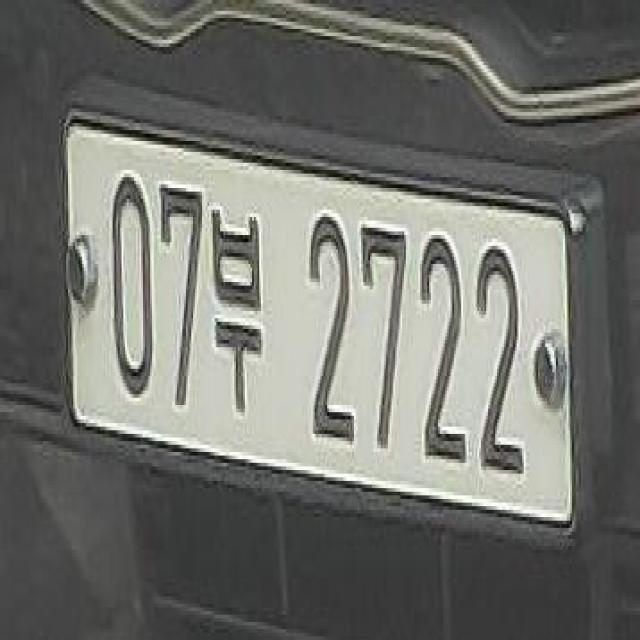illegal_plate: (59, 109, 573, 558)
